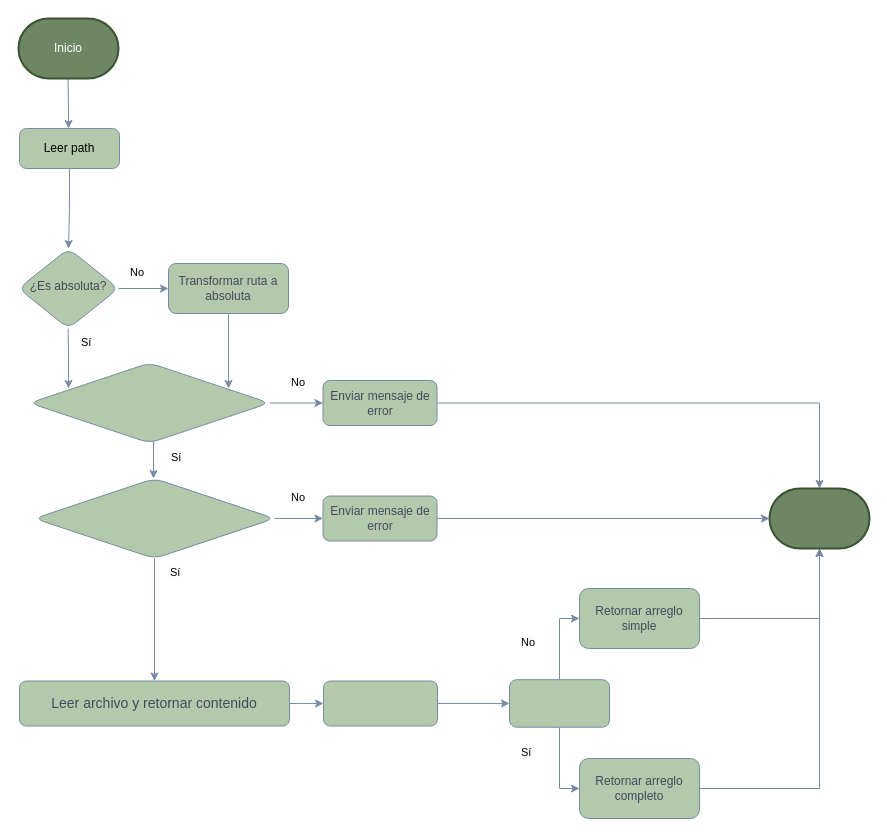
The diagram is 887 pixels wide and 836 high, and some of its shapes have lost their labels. Here are the shapes that lost their labels. From the top down, the centre of each, then its label:
At pixel 149 402: "¿Existe la ruta?".
At pixel 154 518: "¿Es archivo markdown?".
At pixel 819 518: "Fin".
At pixel 380 703: "Extraer links".
At pixel 559 703: "¿Validar links?".
